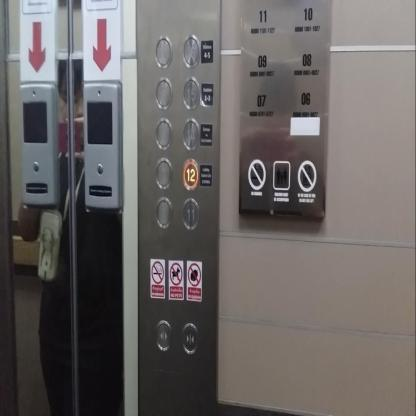11: (182, 197, 199, 230)
12: (181, 157, 199, 190)
14: (182, 116, 199, 150)
15: (182, 75, 200, 109)
16: (182, 34, 200, 68)
blur: (154, 156, 173, 191), (154, 76, 173, 110), (154, 116, 173, 150), (155, 196, 173, 229)
close: (180, 320, 199, 354)
empty: (154, 34, 172, 69)
open: (154, 318, 172, 352)
